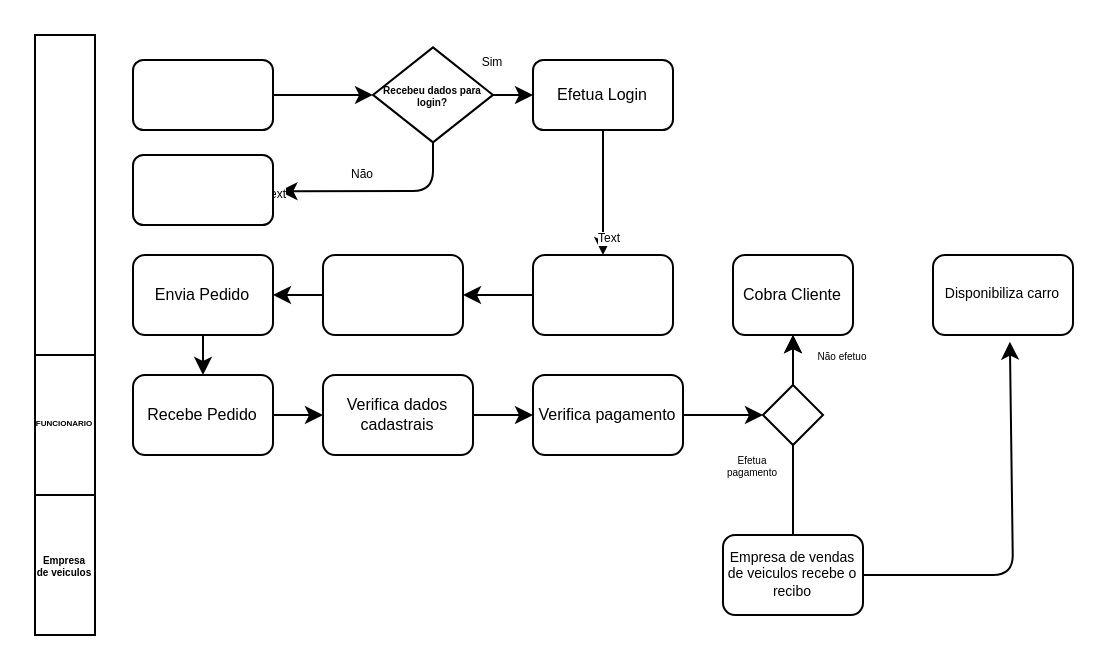
Some shapes in this 1108 by 670 pixel diagram are drawn without their labels. Each missing label, with the centre of its shape:
Aciona suporte: [202,189]
CLIENTE: [64,194]
Cliente cadastra dados nos APP: [202,94]
Seleciona Plano de aluguel: [602,294]
Seleciona tipo de veículo: [392,294]
